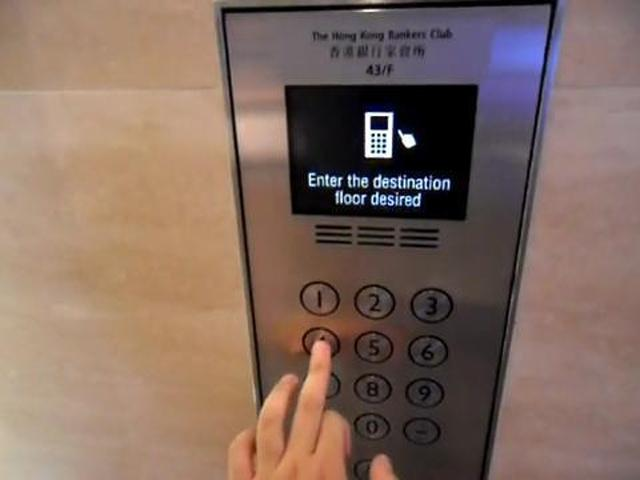0: (352, 411, 391, 440)
1: (298, 280, 339, 315)
2: (351, 281, 396, 319)
3: (407, 285, 453, 323)
5: (353, 329, 393, 363)
6: (405, 333, 448, 367)
8: (351, 371, 392, 403)
9: (404, 376, 444, 408)
led: (281, 81, 477, 222)
unknown: (402, 416, 441, 445)
